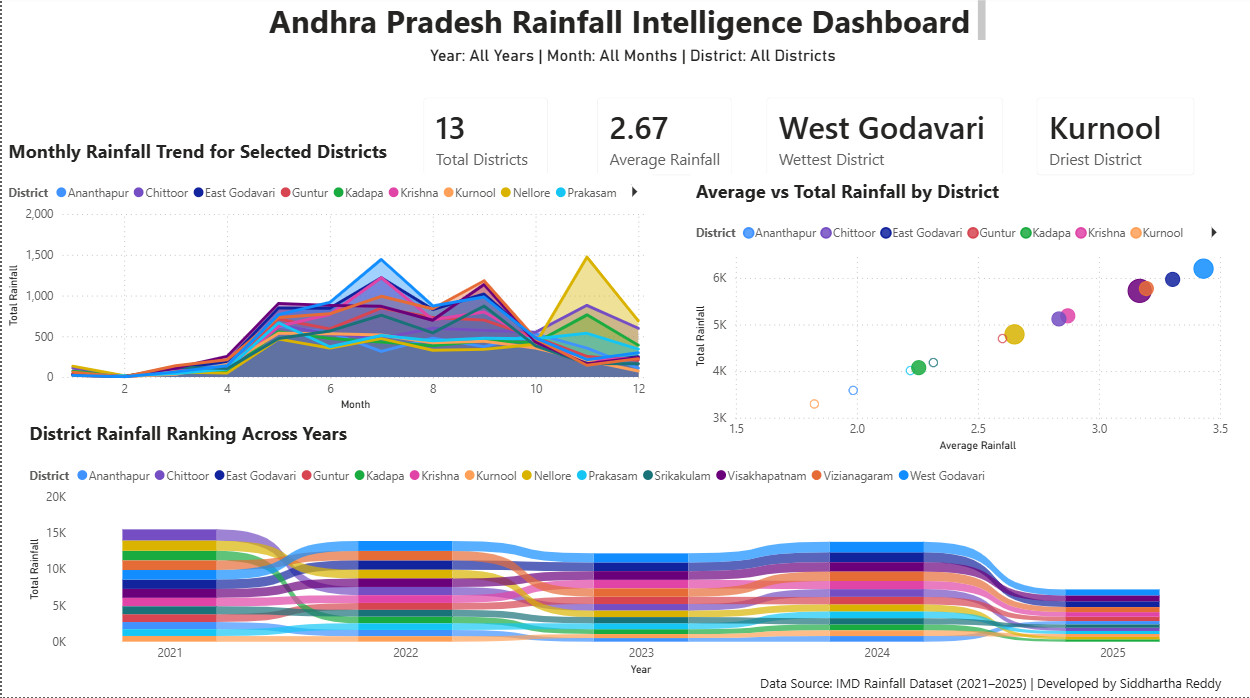

What the dashboard file says about the page in this screenshot:
{"tool":"powerbi","page":{"name":"District Analysis","canvas":[1280,720],"ordinal":1},"visuals":[{"type":"textbox","box":[433.5,53.1,440.7,35.9],"z":0},{"type":"textbox","box":[268.4,1.4,745,51.7],"z":1000},{"type":"cardVisual","fields":{"Data":["Dummy.Total Districts"]},"box":[414.8,89,162.2,114.8],"z":2000},{"type":"cardVisual","fields":{"Data":["Dummy.Average Rainfall"]},"box":[592.8,89,173.7,114.8],"z":3000},{"type":"cardVisual","fields":{"Data":["Dummy.Driest District"]},"box":[1043.6,89,196.7,114.8],"z":4000},{"type":"cardVisual","fields":{"Data":["Dummy.Wettest District"]},"box":[766.5,89,277,114.8],"z":5000},{"type":"ribbonChart","fields":{"Category":["date_dim.Year"],"Series":["district_dim.District"],"Y":["Dummy.Total Rainfall"]},"box":[23,473.7,1217.2,229.7],"z":6000},{"type":"scatterChart","fields":{"Series":["district_dim.District"],"Size":["Dummy.Heavy Rain Events"],"X":["Dummy.Average Rainfall"],"Y":["Dummy.Total Rainfall"]},"box":[706.2,225.4,555.5,248.3],"z":7000},{"type":"areaChart","fields":{"Category":["date_dim.Month"],"Series":["district_dim.District"],"Y":["Dummy.Total Rainfall"]},"box":[1.4,183.7,666,248.3],"z":8000},{"type":"textbox","box":[23,432.1,348.8,41.6],"z":10000},{"type":"textbox","box":[706.2,183.7,344.5,40.2],"z":11000},{"type":"textbox","box":[1.4,143.5,414.8,40.2],"z":12000},{"type":"textbox","box":[771.9,691.3,508.1,28.7],"z":12001}]}

Visuals, with their boxes in screenshot pixels (x1, y1, x2, y2), scaled from the page's 1280x720 canvas onto the 1250x698 screenshot:
textbox: (423,51,854,86)
textbox: (262,1,990,51)
cardVisual - Dummy.Total Districts: (405,86,563,198)
cardVisual - Dummy.Average Rainfall: (579,86,749,198)
cardVisual - Dummy.Driest District: (1019,86,1211,198)
cardVisual - Dummy.Wettest District: (749,86,1019,198)
ribbonChart - date_dim.Year x district_dim.District: (22,459,1211,682)
scatterChart - district_dim.District x Dummy.Heavy Rain Events: (690,219,1232,459)
areaChart - date_dim.Month x district_dim.District: (1,178,652,419)
textbox: (22,419,363,459)
textbox: (690,178,1026,217)
textbox: (1,139,406,178)
textbox: (754,670,1249,697)
